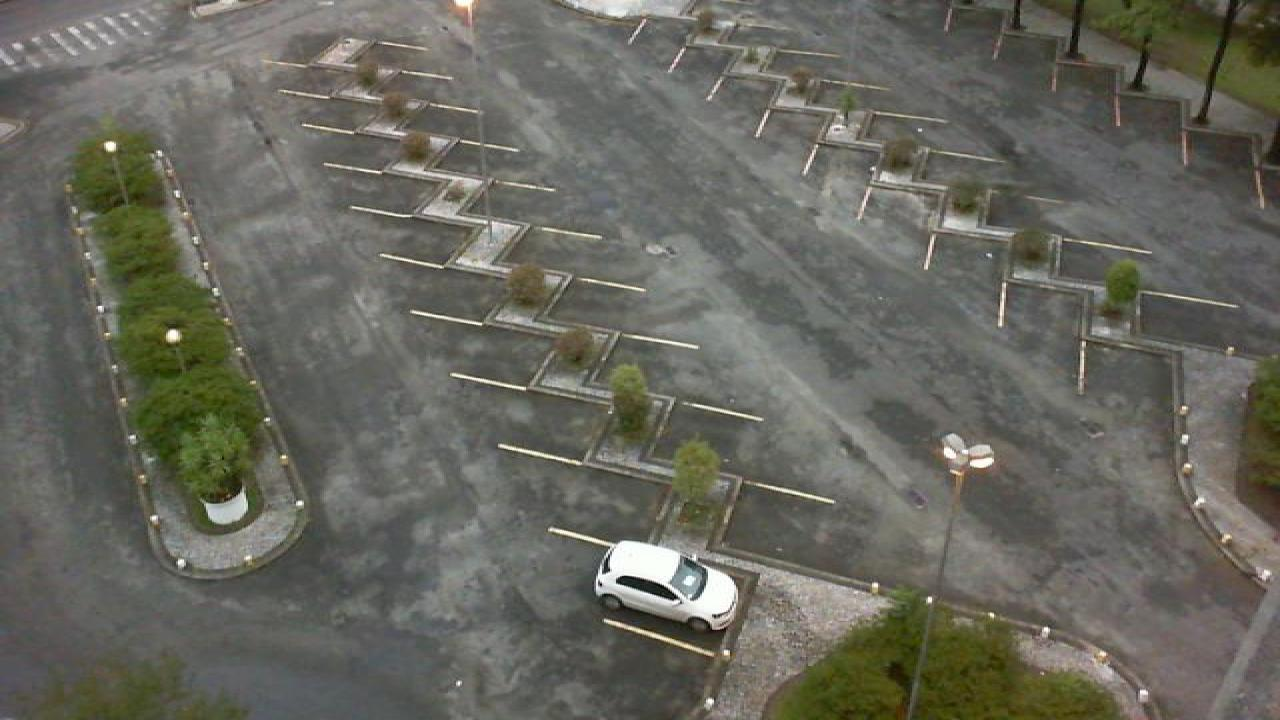Car: (590, 539, 740, 632)
